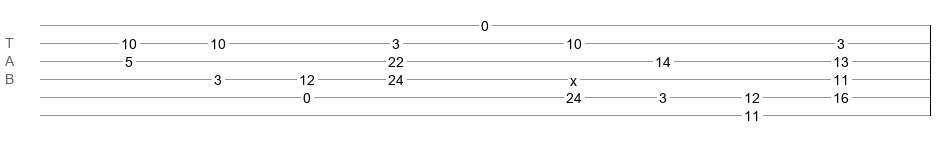0: (303, 90, 311, 100), (481, 18, 489, 28)
10: (121, 36, 137, 46), (210, 36, 226, 46), (566, 36, 582, 46)
11: (744, 108, 760, 118), (833, 72, 849, 82)
12: (299, 72, 315, 82), (744, 90, 760, 100)
13: (833, 54, 849, 64)
14: (655, 54, 671, 64)
16: (833, 90, 849, 100)
22: (388, 54, 404, 64)
24: (388, 72, 404, 82), (566, 90, 582, 100)
3: (214, 72, 222, 82), (392, 36, 400, 46), (659, 90, 667, 100), (837, 36, 845, 46)
5: (125, 54, 133, 64)
x: (570, 73, 577, 81)
